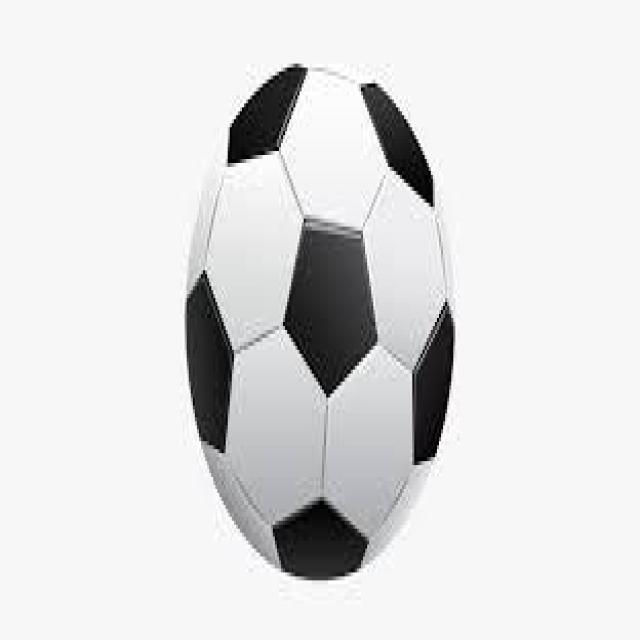Soccer Ball: (187, 64, 455, 584)
